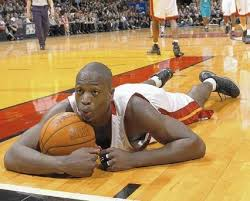10+: (1, 1, 250, 201)
down: (4, 62, 244, 181)
